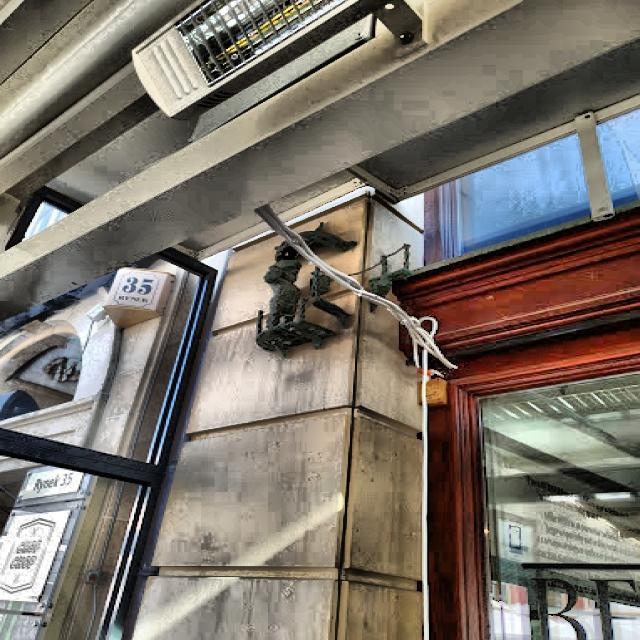Dryndek: (257, 224, 355, 356)
